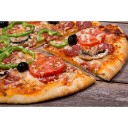pepperonipizza: (1, 20, 128, 104)
